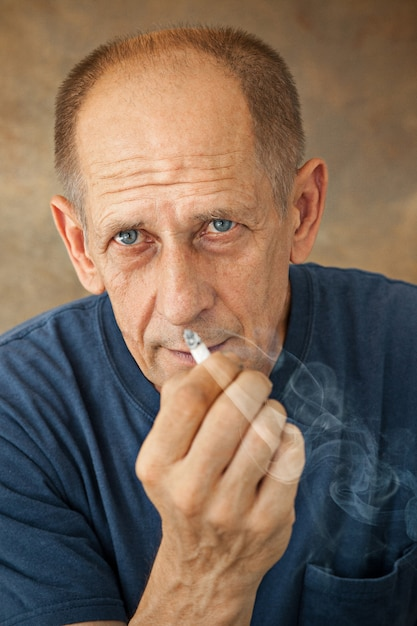cigarette: (180, 325, 212, 361)
